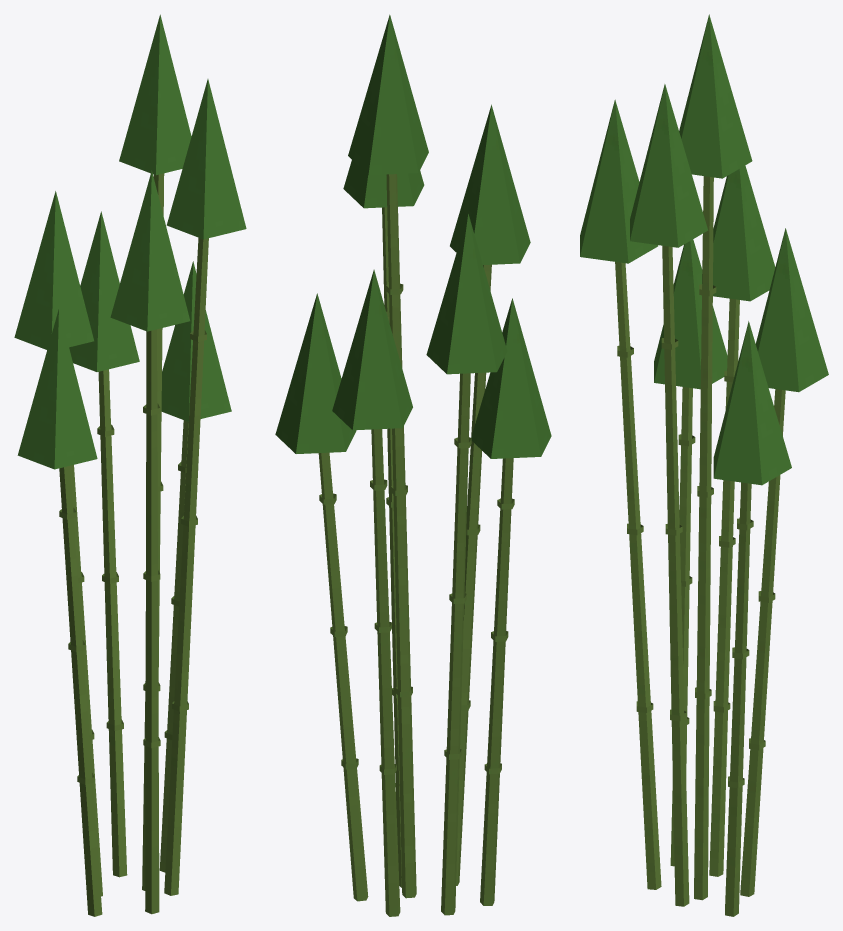
File: bamboo_clump_01.glb
3 views of the same model, side by side, from view 1: azimuth 30°, elevation 25°; view 2: azimuth 150°, elevation 25°; view 3: azimuth 270°, elevation 25° (orthographic). The views are drawn at different scales.
Parts seen in each view (by area): view 1: bamboo_clump_01; view 2: bamboo_clump_01; view 3: bamboo_clump_01.
Part boxes in pixels (bbox=[...]): bamboo_clump_01: bbox=[14, 14, 246, 916]; bamboo_clump_01: bbox=[275, 14, 551, 916]; bamboo_clump_01: bbox=[580, 14, 828, 916].
Size of the model in its own units: 1.78 by 6.35 by 1.61.
2 materials, 2 textured.
